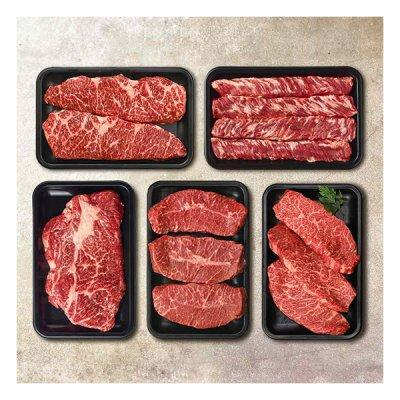beef: (97, 119, 151, 204), (27, 119, 79, 207), (29, 48, 116, 99), (133, 49, 221, 99), (172, 121, 221, 206)
